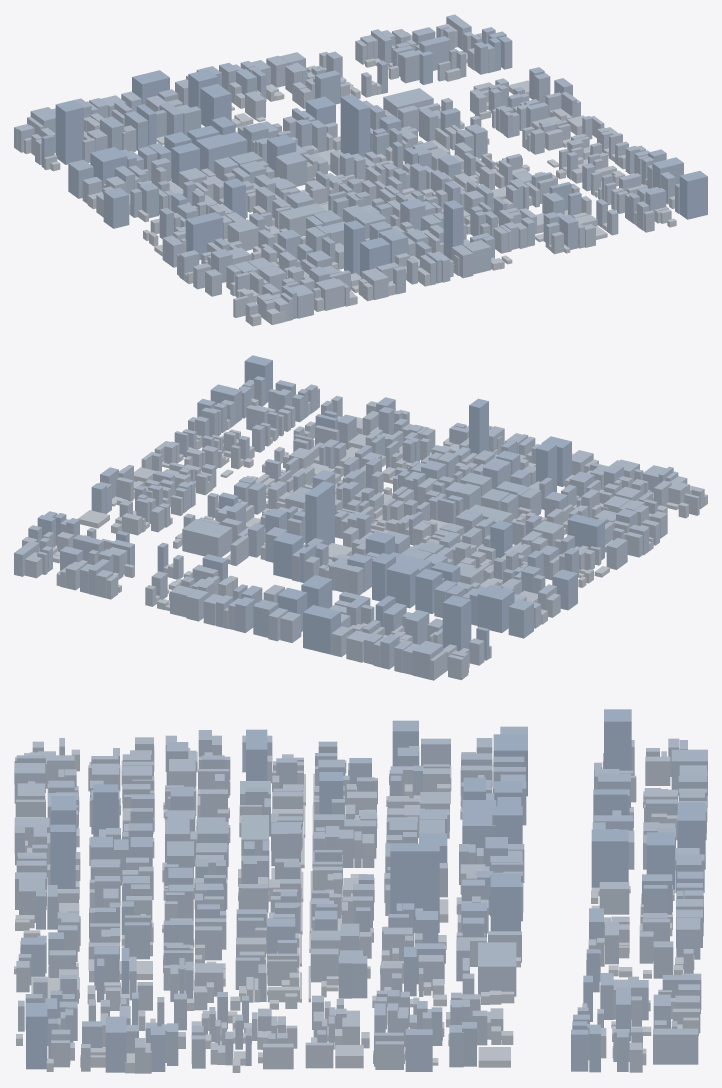
3 renders of one model, top to bottom at view 1: azimuth 30°, elevation 25°; view 2: azimuth 150°, elevation 25°; view 3: azimuth 270°, elevation 25°, orthographic. The views are drawn at different scales.
Bounding box in the file's own units: 878 × 107 × 827.
